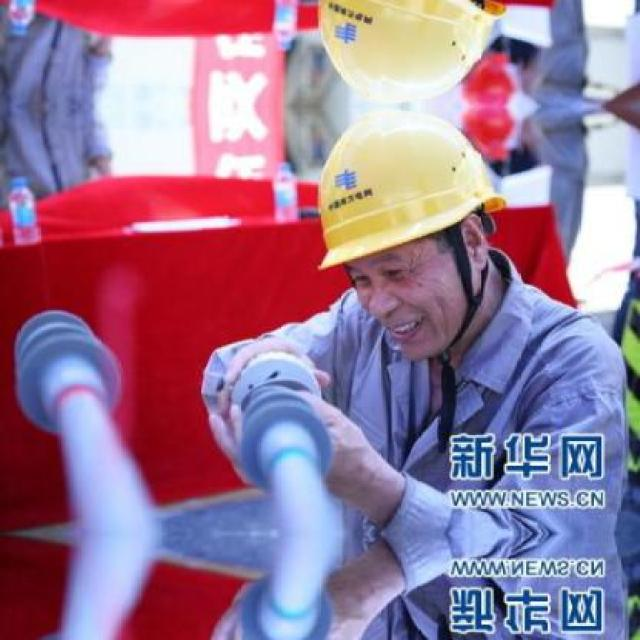helmet: (282, 106, 528, 380), (282, 0, 529, 108)
